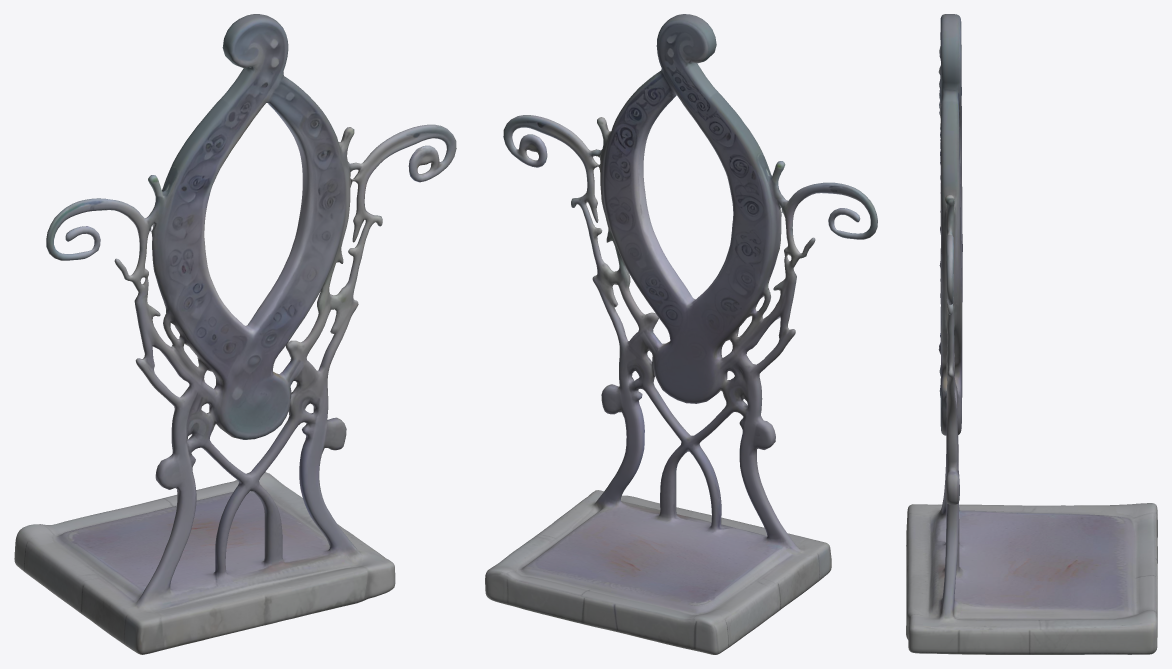
Rendered from Sign_O.fbx.
3 views of the same model, side by side, from view 1: azimuth 30°, elevation 25°; view 2: azimuth 150°, elevation 25°; view 3: azimuth 270°, elevation 25° (orthographic). The views are drawn at different scales.
Visible parts, largest first — view 1: Sign_O; view 2: Sign_O; view 3: Sign_O.
Part boxes in pixels (x1,y1,x2,y2): Sign_O: (14,14,456,654); Sign_O: (485,14,877,654); Sign_O: (906,14,1157,654).
Size of the model in its own units: 33.03 by 45.78 by 17.89.
Materials: 1 (1 with a texture image).
